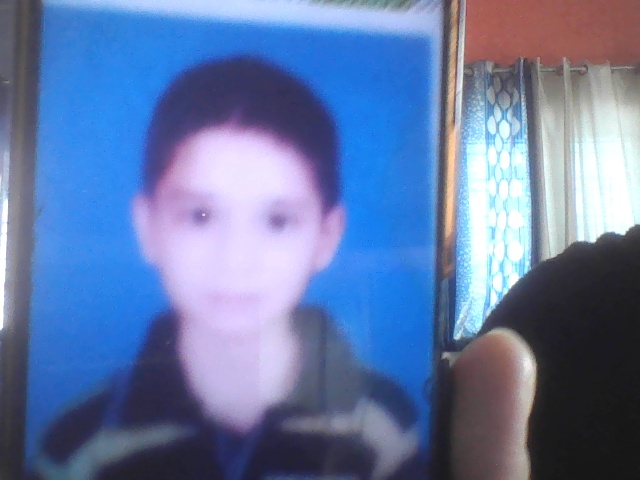fake: (134, 57, 356, 371)
